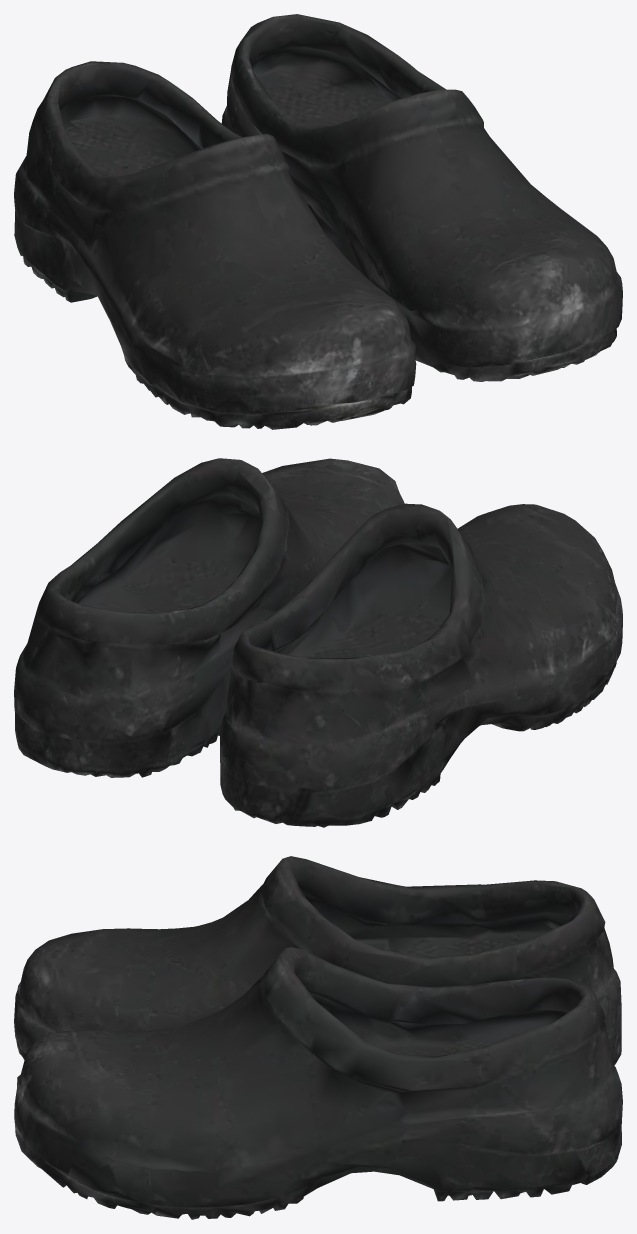
The model's file is mobile.glb.
The picture shows the model from 3 angles, top to bottom: view 1: azimuth 30°, elevation 25°; view 2: azimuth 150°, elevation 25°; view 3: azimuth 270°, elevation 25°; orthographic projection.
Parts seen in each view (by area): view 1: d-clogs; view 2: d-clogs; view 3: d-clogs.
Boxes of the visible parts, x1=… form: d-clogs: x1=14, y1=14, x2=622, y2=429; d-clogs: x1=14, y1=458, x2=622, y2=827; d-clogs: x1=14, y1=856, x2=622, y2=1219.
Size of the model in its own units: 0.2996 by 0.1346 by 0.361.
Materials: 1 (1 with a texture image).
